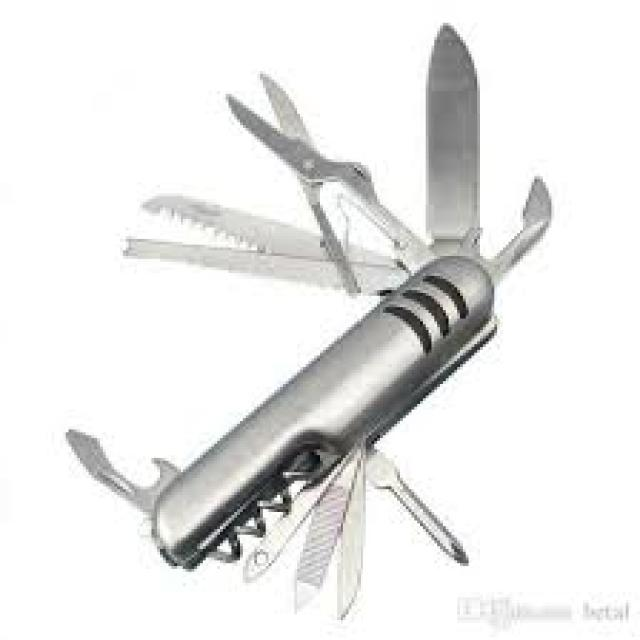knives: (423, 23, 479, 243)
